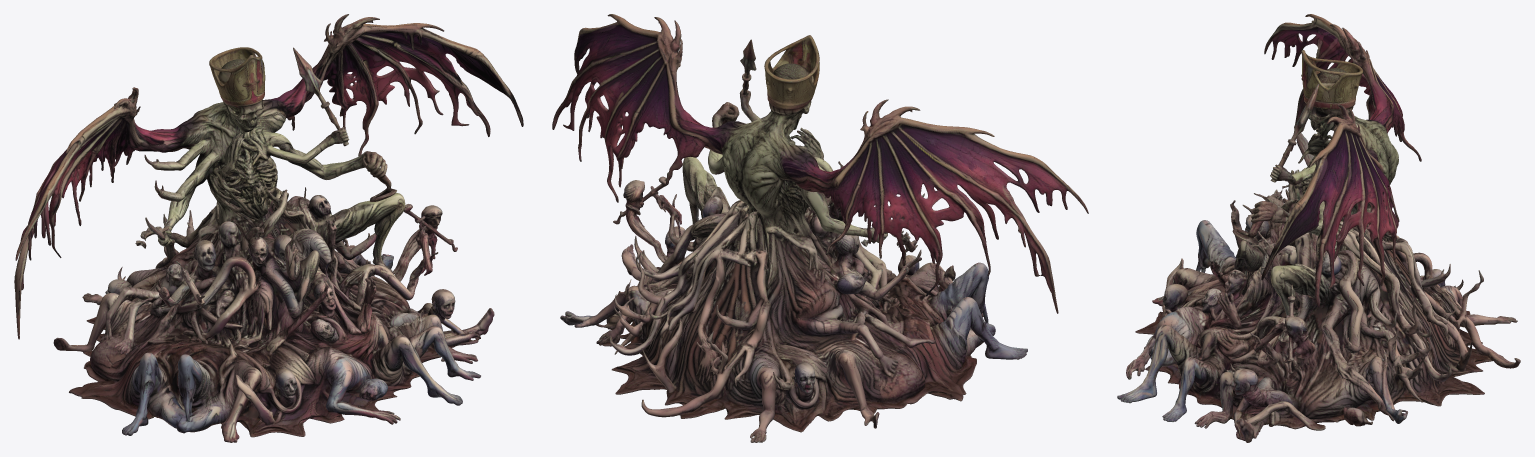
Rendered from solarius.glb.
The picture shows the model from 3 angles, left to right: view 1: azimuth 30°, elevation 25°; view 2: azimuth 150°, elevation 25°; view 3: azimuth 270°, elevation 25°; orthographic projection. The views are drawn at different scales.
Bounding box in the file's own units: 0.2522 × 0.15 × 0.1805.
1 material, 1 textured.
